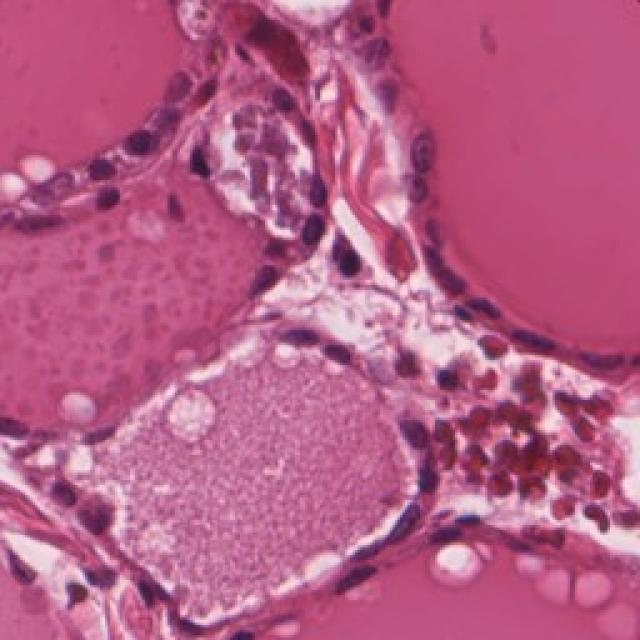normal: (361, 485, 449, 572), (503, 296, 568, 376), (107, 104, 172, 180), (276, 162, 345, 224), (565, 324, 635, 384), (386, 447, 462, 502), (449, 274, 518, 334), (276, 205, 343, 259), (311, 326, 368, 384)
